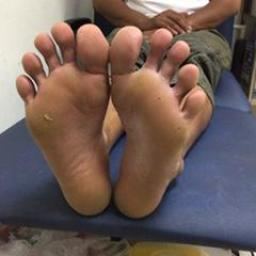Plantar View -Both Feet-: (12, 13, 212, 228)
